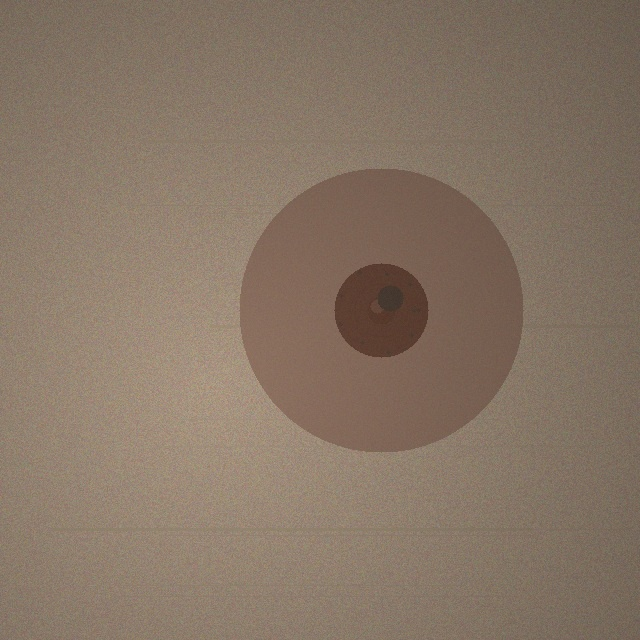cold_weld: (239, 168, 523, 452)
